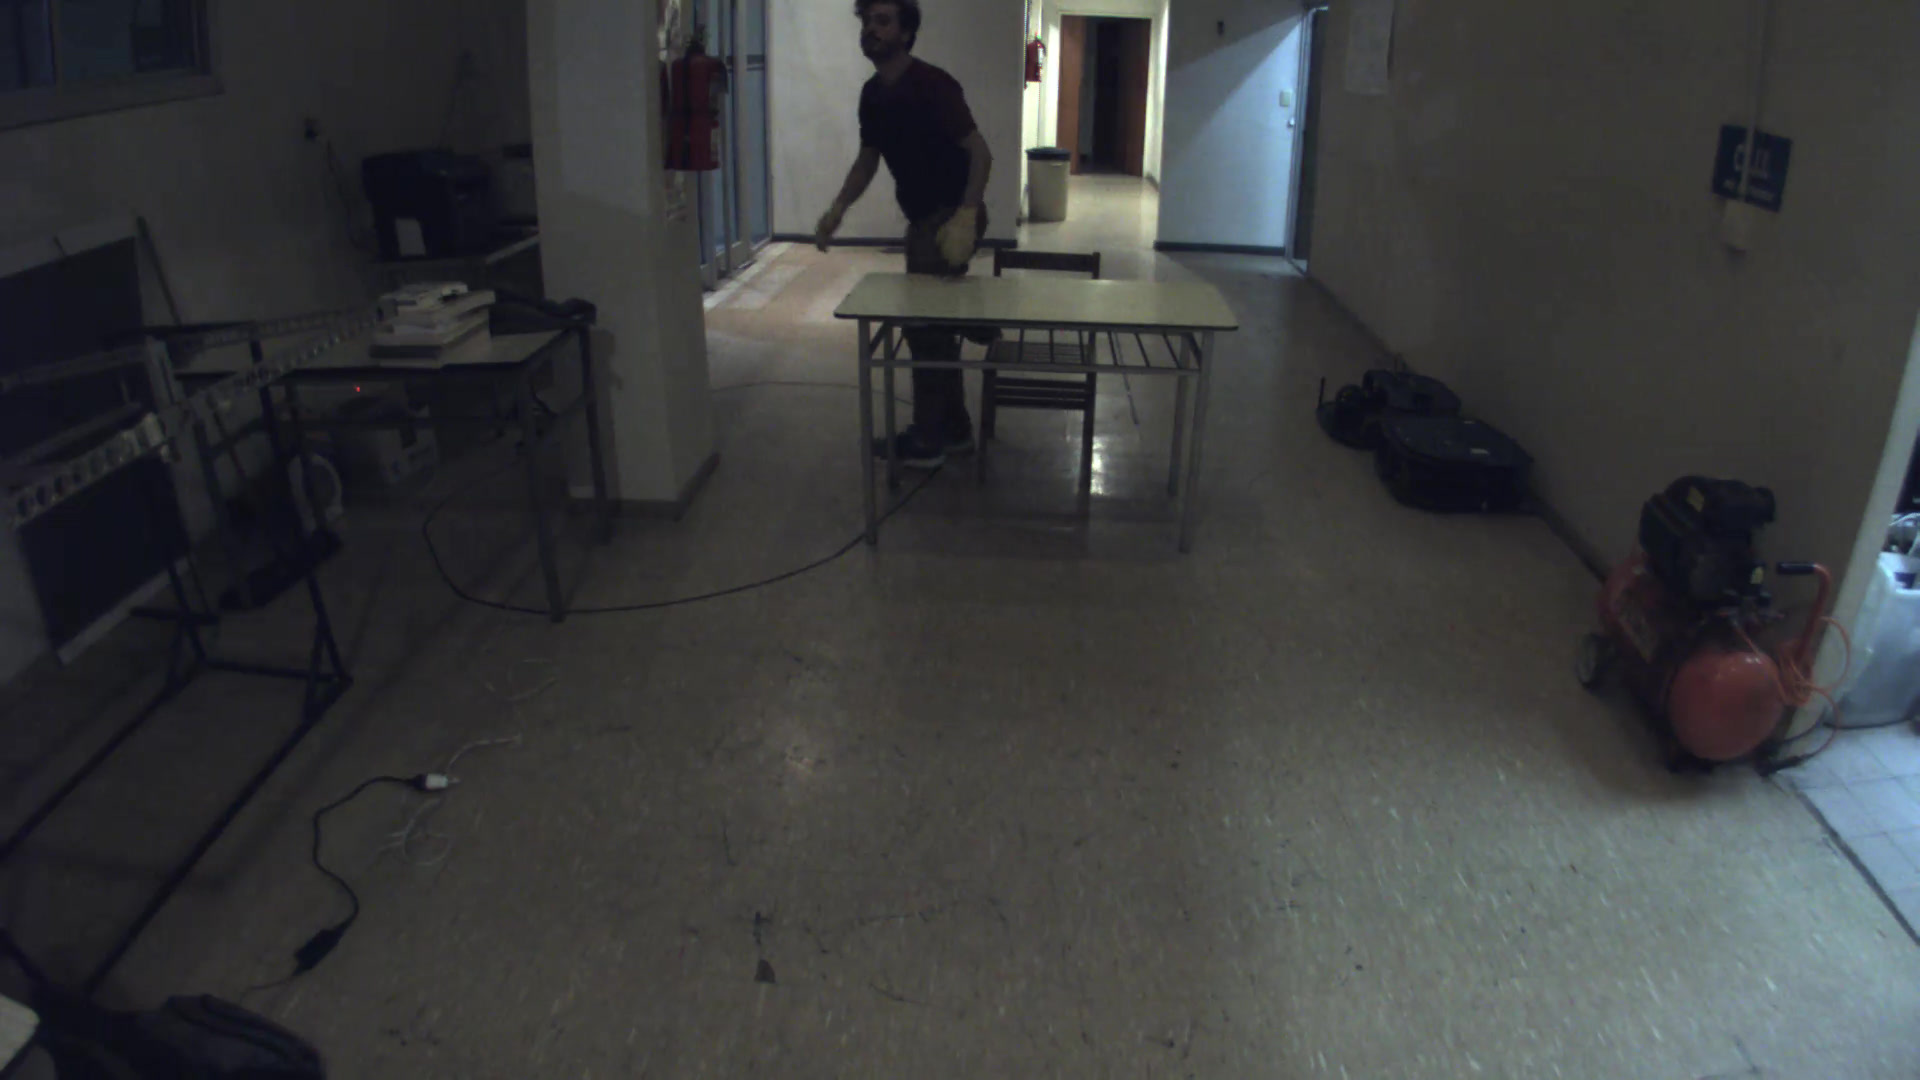hand: (934, 200, 992, 270), (808, 203, 866, 262)
